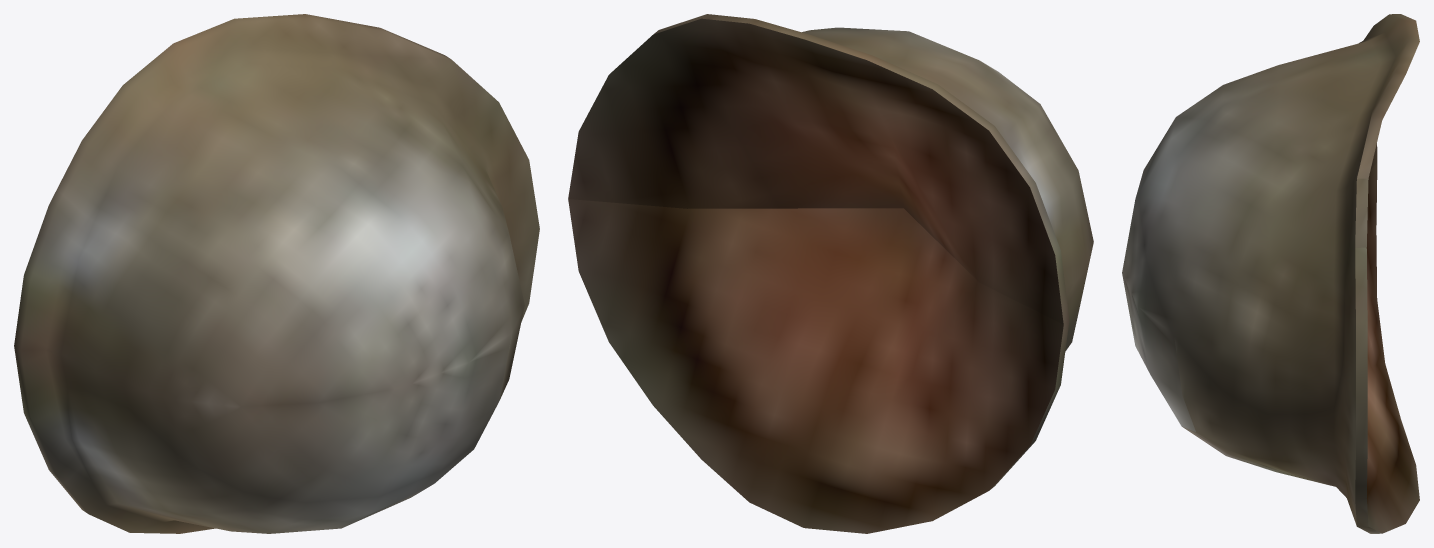
The model's file is helmet_russian_padded_b.glb.
3 renders of one model, left to right at view 1: azimuth 30°, elevation 25°; view 2: azimuth 150°, elevation 25°; view 3: azimuth 270°, elevation 25°, orthographic. The views are drawn at different scales.
Bounding box in the file's own units: 11.71 × 10.92 × 6.43.
Materials: 1 (1 with a texture image).
